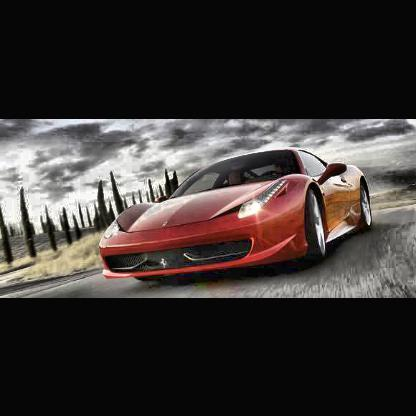Ferrari 458 Italia Coupe 2012: (100, 148, 374, 278)
